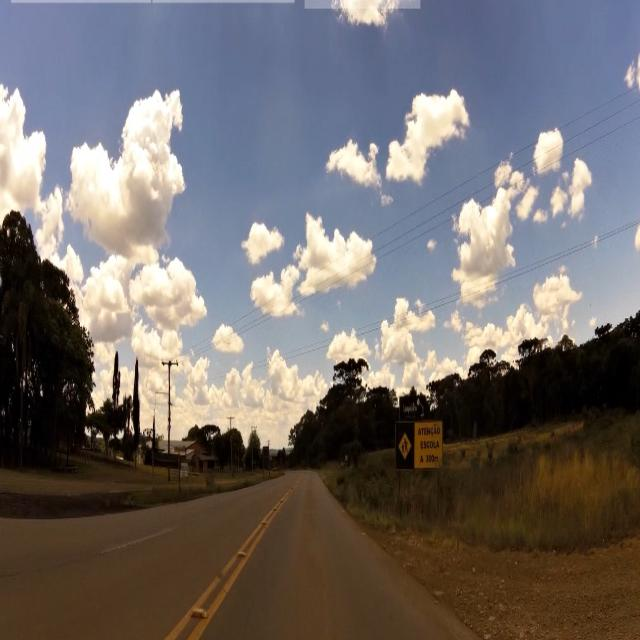A-33a: (398, 432, 412, 463)
